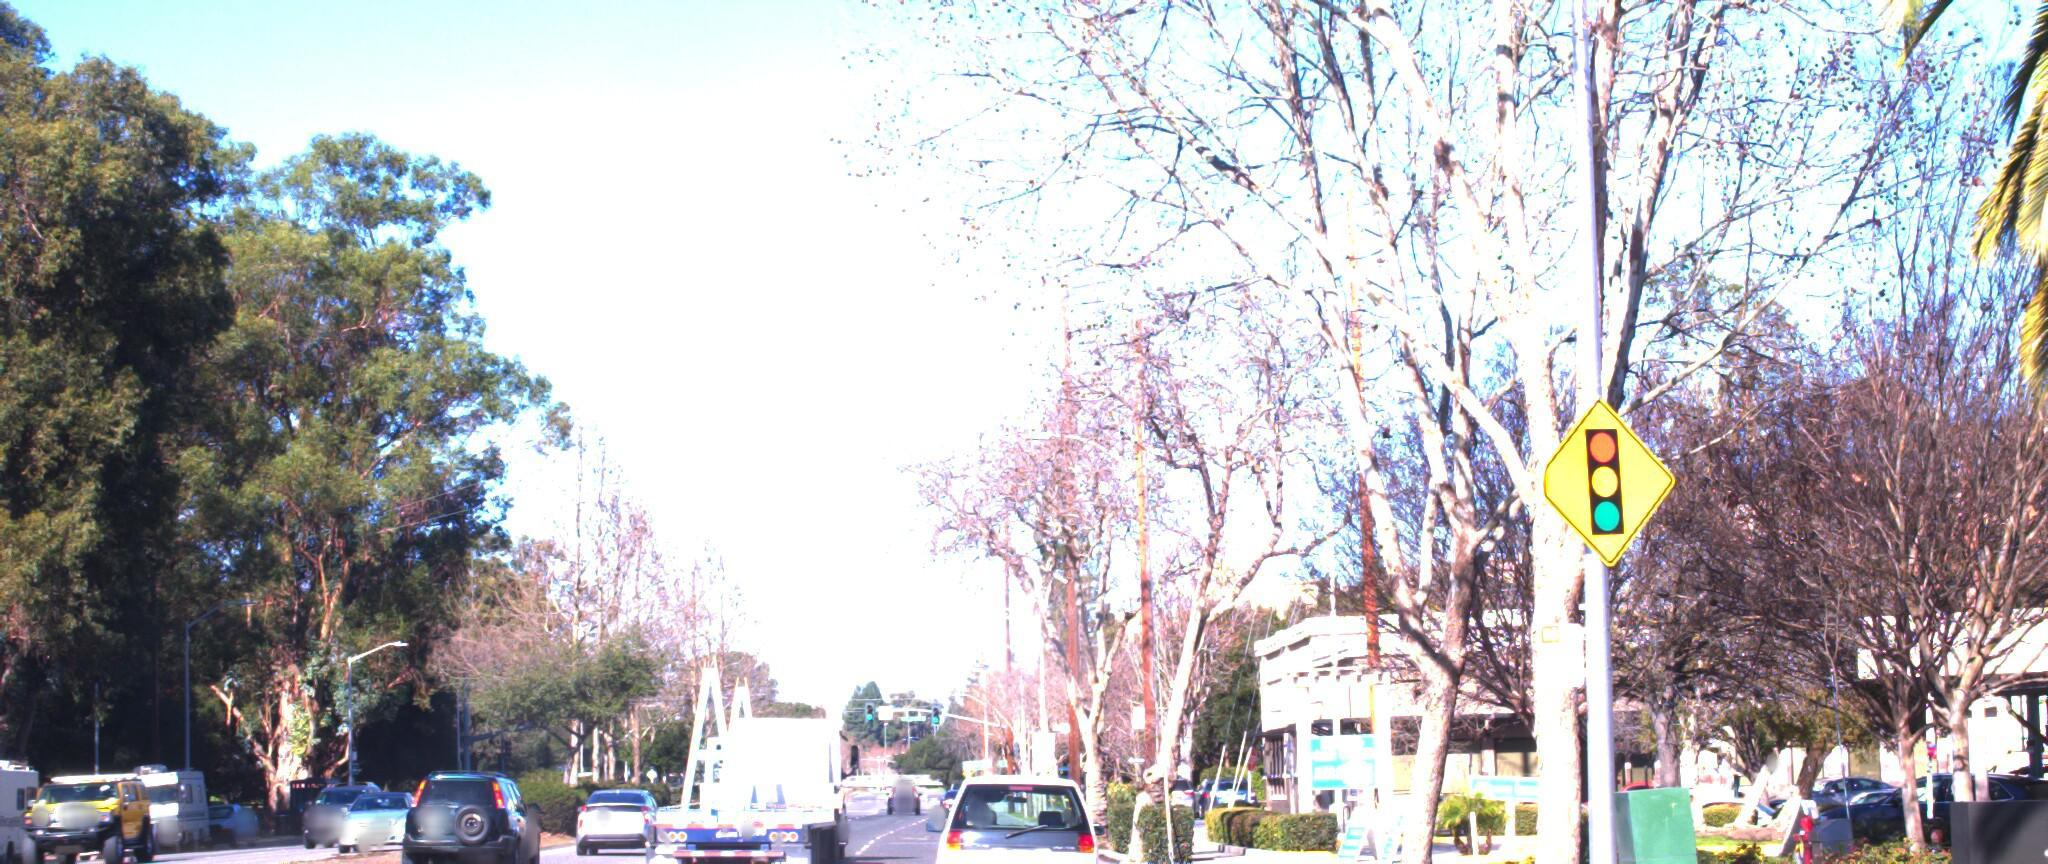car: (930, 754, 1112, 864), (419, 748, 567, 864), (26, 760, 175, 857), (573, 760, 682, 829), (334, 773, 438, 841)
other_vehicle: (0, 723, 68, 857)
truck: (658, 623, 882, 864)
